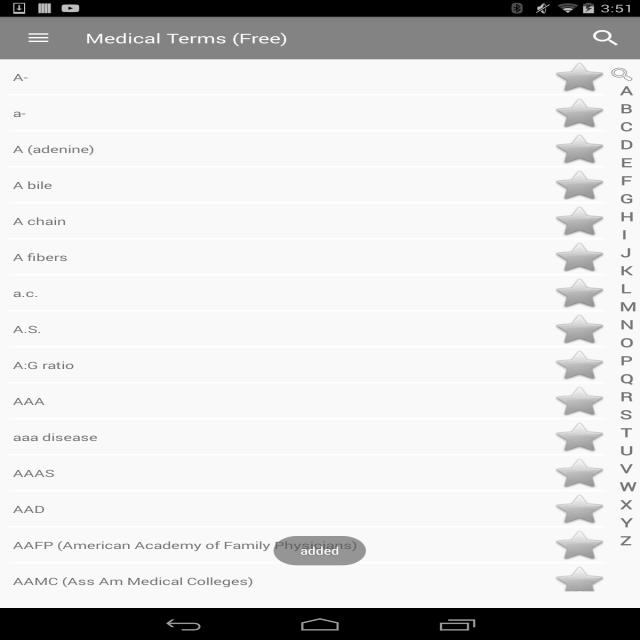ImageButton: (9, 17, 68, 59)
ImageView: (556, 62, 604, 92), (556, 98, 604, 128), (556, 134, 604, 164), (556, 170, 604, 200), (556, 206, 604, 236), (556, 242, 604, 272), (556, 278, 604, 308), (556, 314, 604, 344), (556, 350, 604, 380), (556, 386, 604, 416), (556, 422, 604, 452), (556, 458, 604, 488), (556, 494, 604, 524), (556, 530, 604, 560), (556, 566, 604, 596)
TextView: (7, 95, 607, 132), (7, 203, 607, 240), (7, 60, 607, 96), (7, 132, 607, 168), (7, 168, 607, 204), (7, 240, 607, 276), (7, 276, 607, 312), (7, 312, 607, 348), (7, 420, 607, 456), (7, 456, 607, 492), (7, 492, 607, 528), (7, 528, 607, 564), (7, 564, 607, 600), (7, 348, 607, 383), (7, 384, 607, 419), (85, 17, 572, 59), (580, 22, 632, 54)
